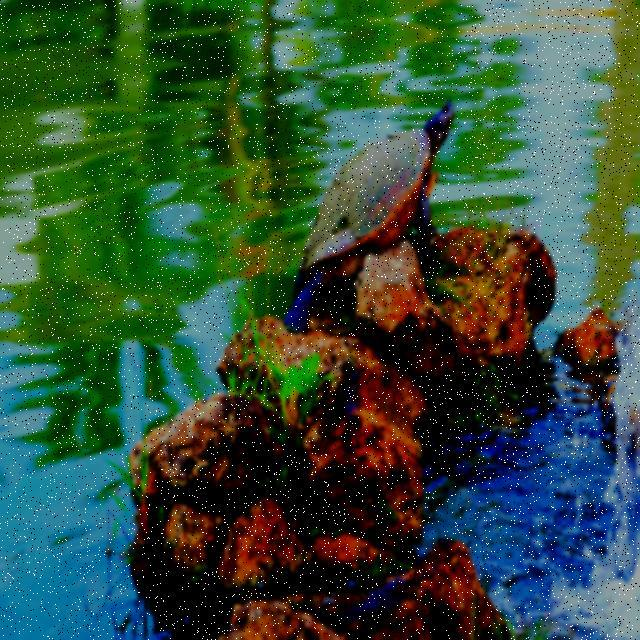tortoise: (291, 118, 474, 302)
